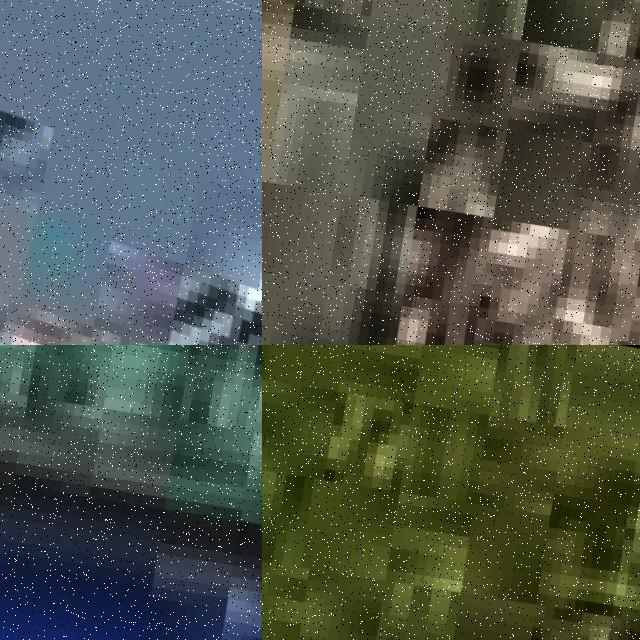drone: (0, 0, 262, 345)
